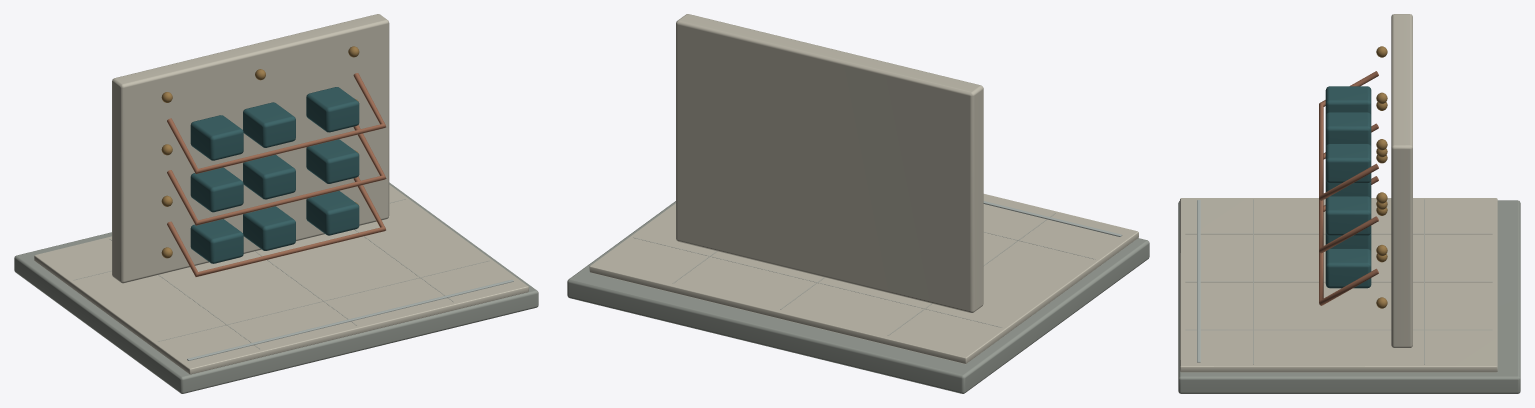
The model's file is idea-c2a29761.glb.
The picture shows the model from 3 angles, left to right: view 1: azimuth 30°, elevation 25°; view 2: azimuth 150°, elevation 25°; view 3: azimuth 270°, elevation 25°; orthographic projection. The views are drawn at different scales.
Parts seen in each view (by area): view 1: Rope-only Wall Storage; view 2: Rope-only Wall Storage; view 3: Rope-only Wall Storage.
Boxes of the visible parts, left/top/right/bottom form: Rope-only Wall Storage: left=14, top=14, right=538, bottom=393; Rope-only Wall Storage: left=567, top=14, right=1149, bottom=393; Rope-only Wall Storage: left=1178, top=14, right=1520, bottom=393.
Bounding box in the file's own units: 4.8 × 2.85 × 3.9.
